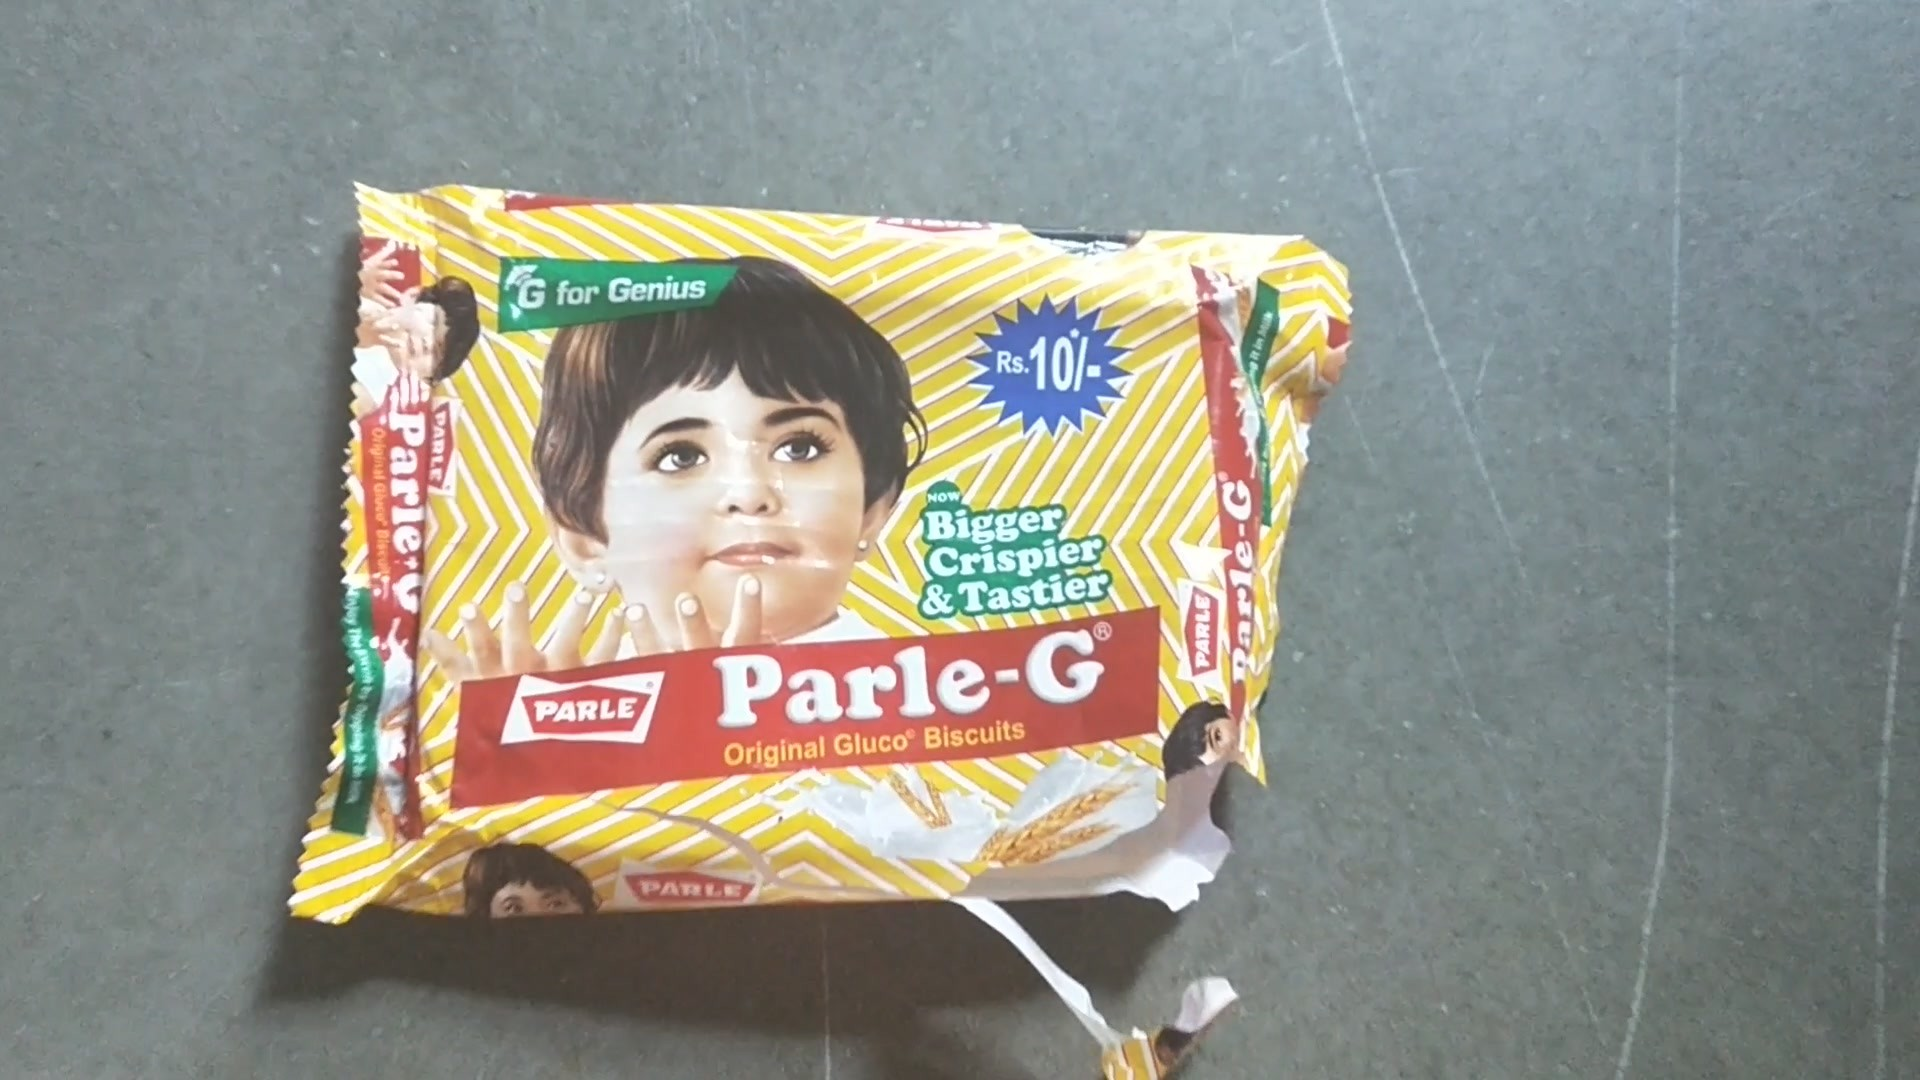parle-g: (378, 236, 1201, 874)
